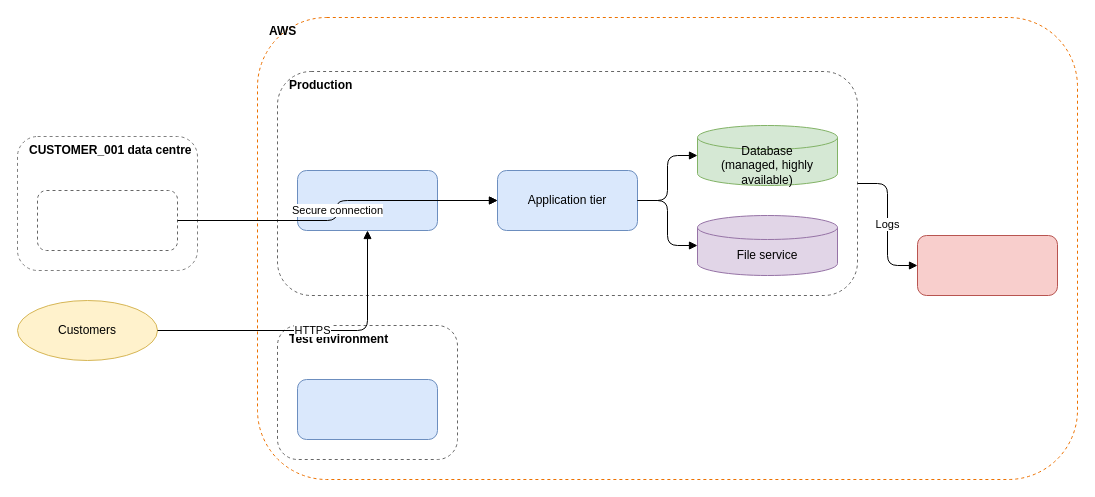
Some shapes in this 1095 by 497 pixel diagram are drawn without their labels. The shapes that lost their labels are listed below. From the top down, each one's centre as x and y in pixels, then its label:
At (x=107, y=220): "Active Directory".
At (x=367, y=200): "Web tier".
At (x=987, y=265): "Monitoring and audit".
At (x=367, y=409): "Test systems (working hours only)".
